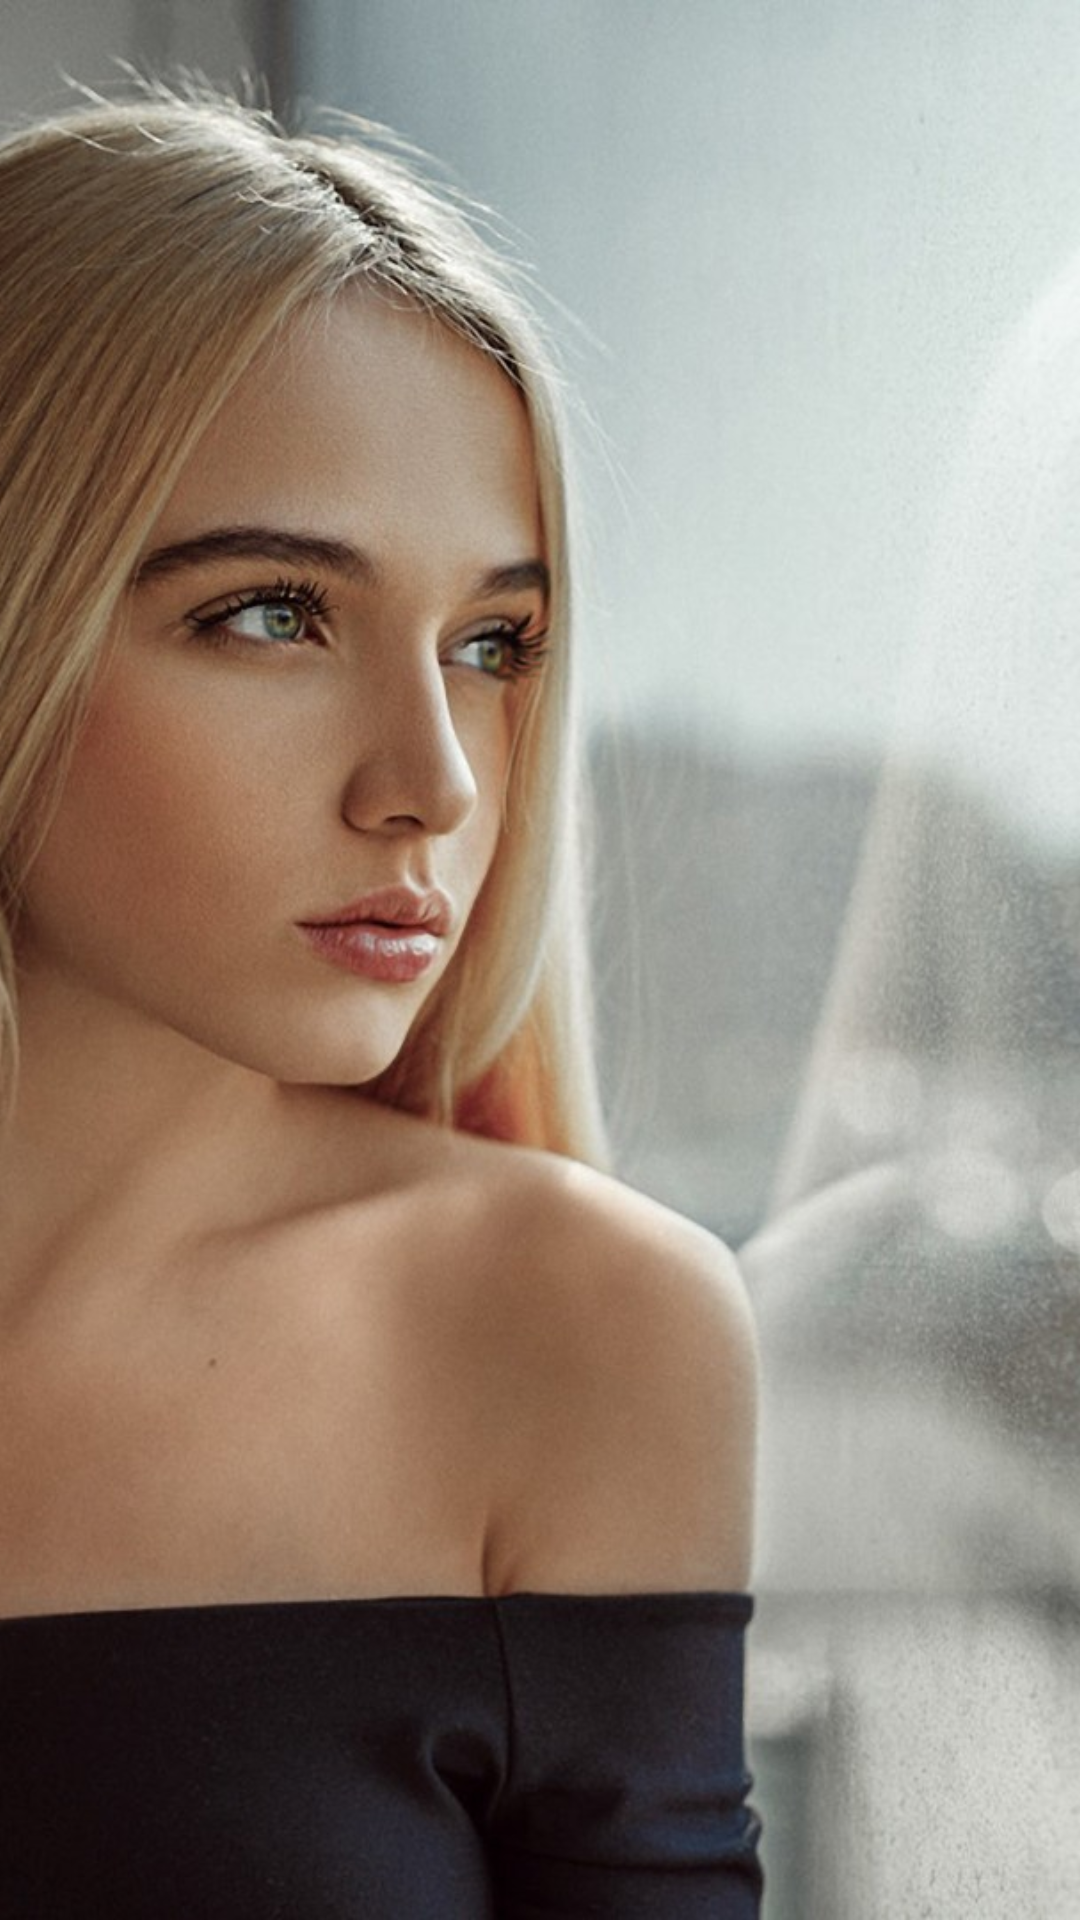person: (10, 121, 844, 1920)
